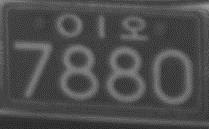0: (150, 47, 194, 106), (55, 12, 84, 38)
1: (89, 13, 112, 39)
7: (13, 39, 52, 97)
8: (58, 42, 99, 102), (105, 44, 146, 104)
오: (119, 14, 148, 41)
